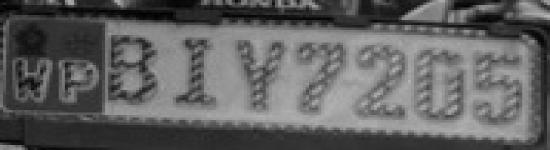0: (414, 45, 469, 124)
2: (353, 40, 416, 124)
5: (468, 49, 530, 129)
7: (291, 37, 353, 119)
B: (104, 31, 164, 109)
I: (168, 31, 227, 113)
P: (55, 55, 102, 107)
W: (11, 56, 55, 108)
Y: (226, 35, 291, 114)
